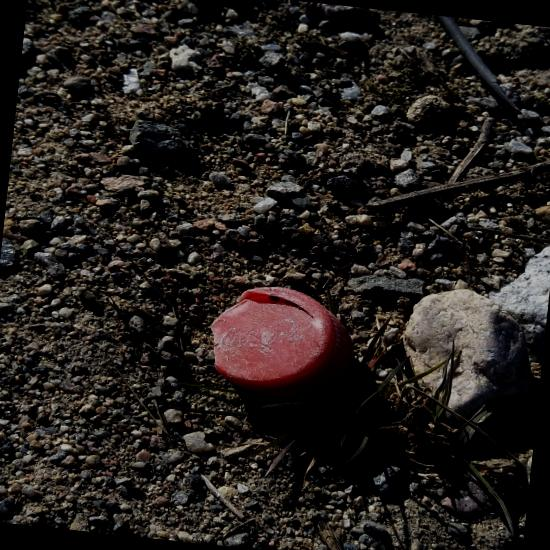Cigarette: (537, 45, 542, 52)
Crisp packet: (262, 306, 361, 373)
Glass bottle: (257, 42, 346, 67)
Plastic film: (428, 185, 473, 214), (126, 519, 173, 541), (219, 533, 235, 547)
Unlabeled litter: (490, 467, 530, 499), (449, 127, 490, 158), (75, 111, 92, 117)
